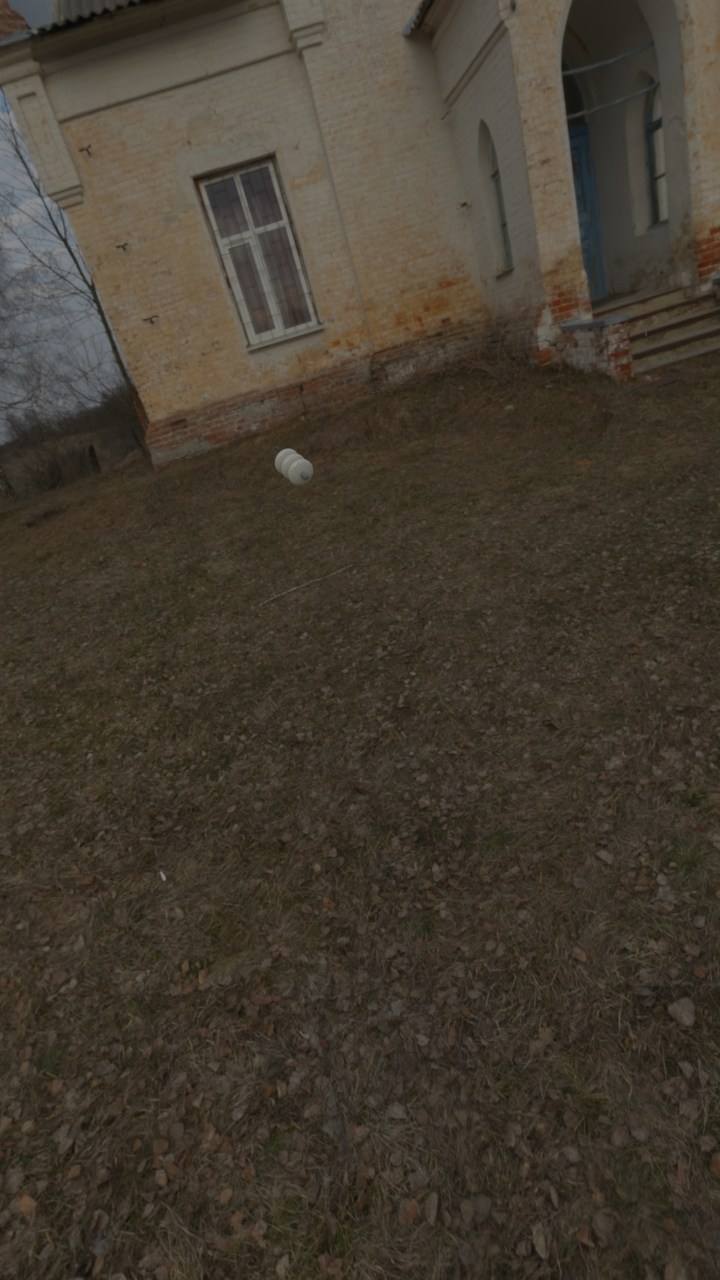ceramicinsulators: (275, 448, 313, 486)
